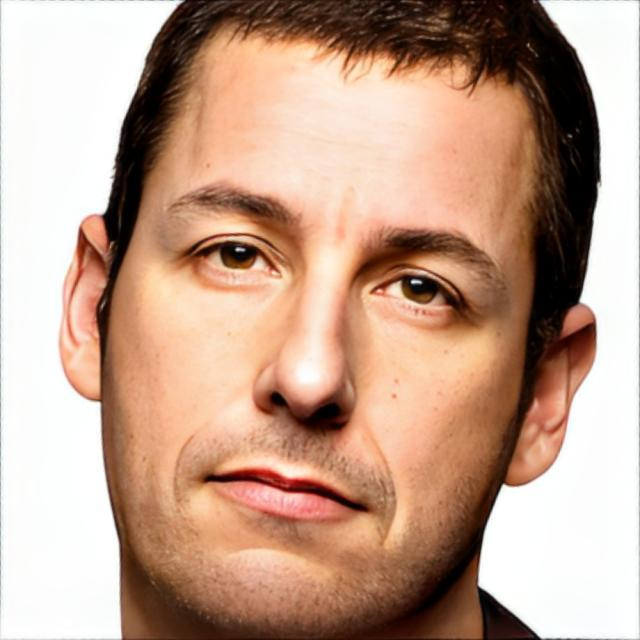neutral: (102, 12, 530, 640)
